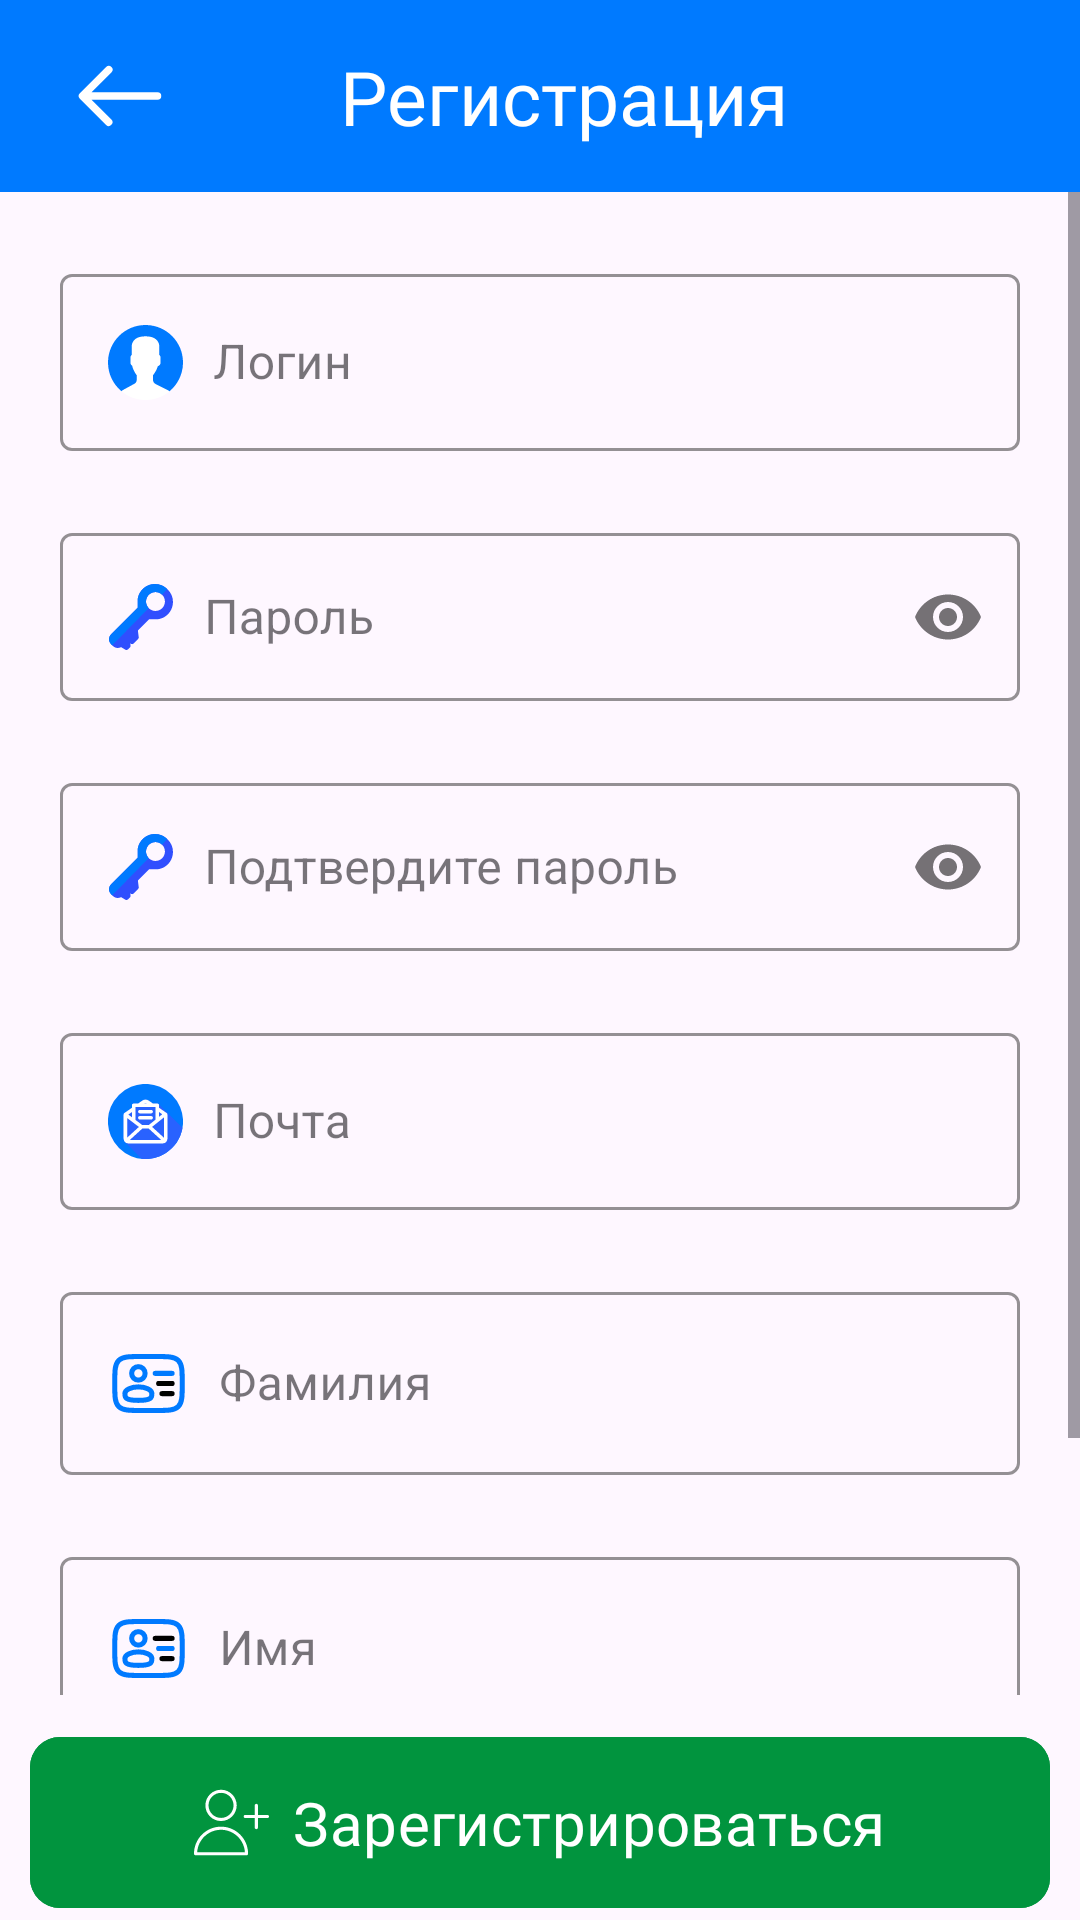

Named icons in this screenshot (1080px x 1920px) and their centers, (x,y):
back: (120,96)
